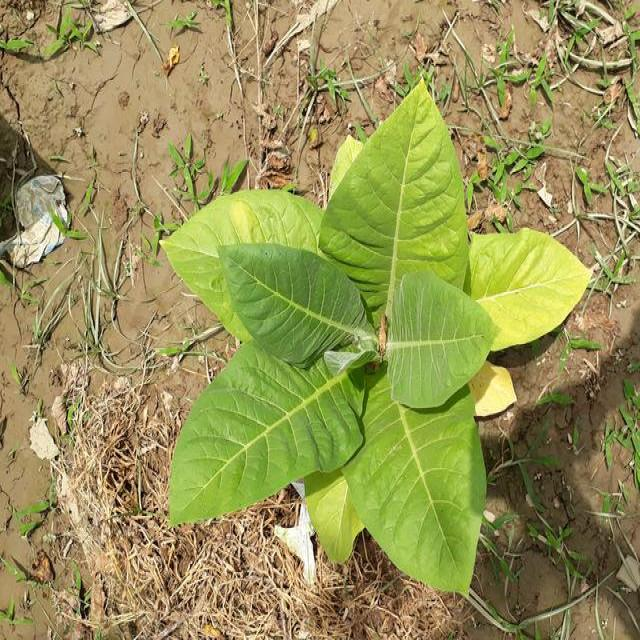crop: (154, 76, 596, 600)
